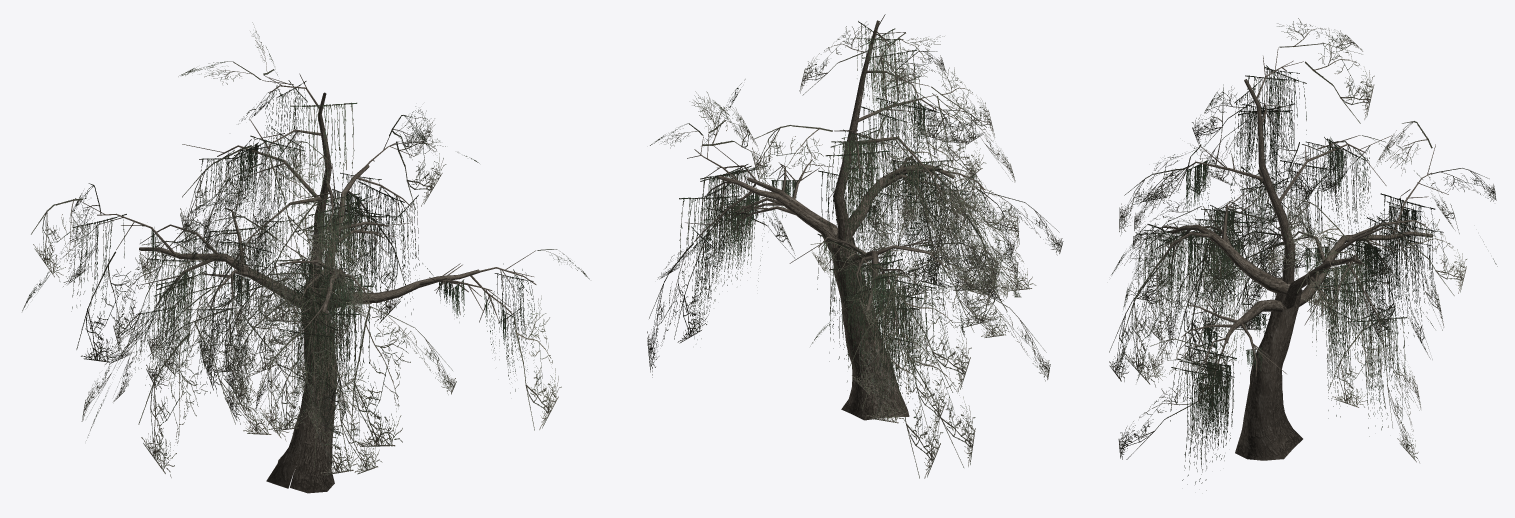
File: gtree_weeping_winter_lod0.glb
3 views of the same model, side by side, from view 1: azimuth 30°, elevation 25°; view 2: azimuth 150°, elevation 25°; view 3: azimuth 270°, elevation 25° (orthographic). The views are drawn at different scales.
Visible parts, largest first — view 1: tree_v6_decid_gothic_weeping_winter_LOD0; view 2: tree_v6_decid_gothic_weeping_winter_LOD0; view 3: tree_v6_decid_gothic_weeping_winter_LOD0.
Boxes of the visible parts, x1,y1,x2,y2 form: tree_v6_decid_gothic_weeping_winter_LOD0: [22, 22, 589, 493]; tree_v6_decid_gothic_weeping_winter_LOD0: [647, 14, 1063, 478]; tree_v6_decid_gothic_weeping_winter_LOD0: [1109, 18, 1497, 490].
Size of the model in its own units: 8.73 by 8.09 by 7.12.
1 material, 1 textured.
